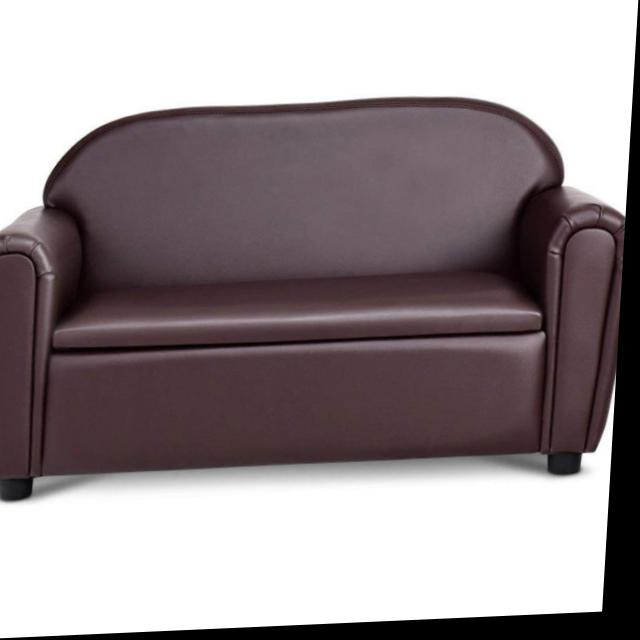Sofa: (0, 92, 635, 504)
